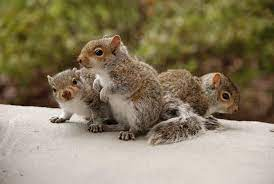squirrel: (76, 35, 173, 140), (155, 69, 242, 122), (43, 70, 105, 131)
